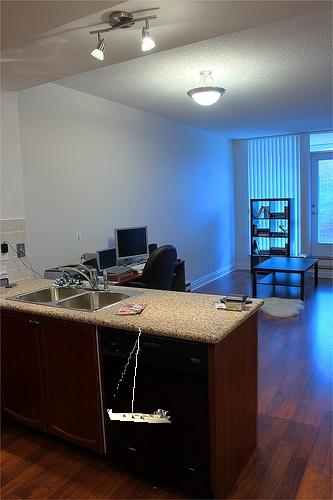tampered: (108, 328, 171, 423)
